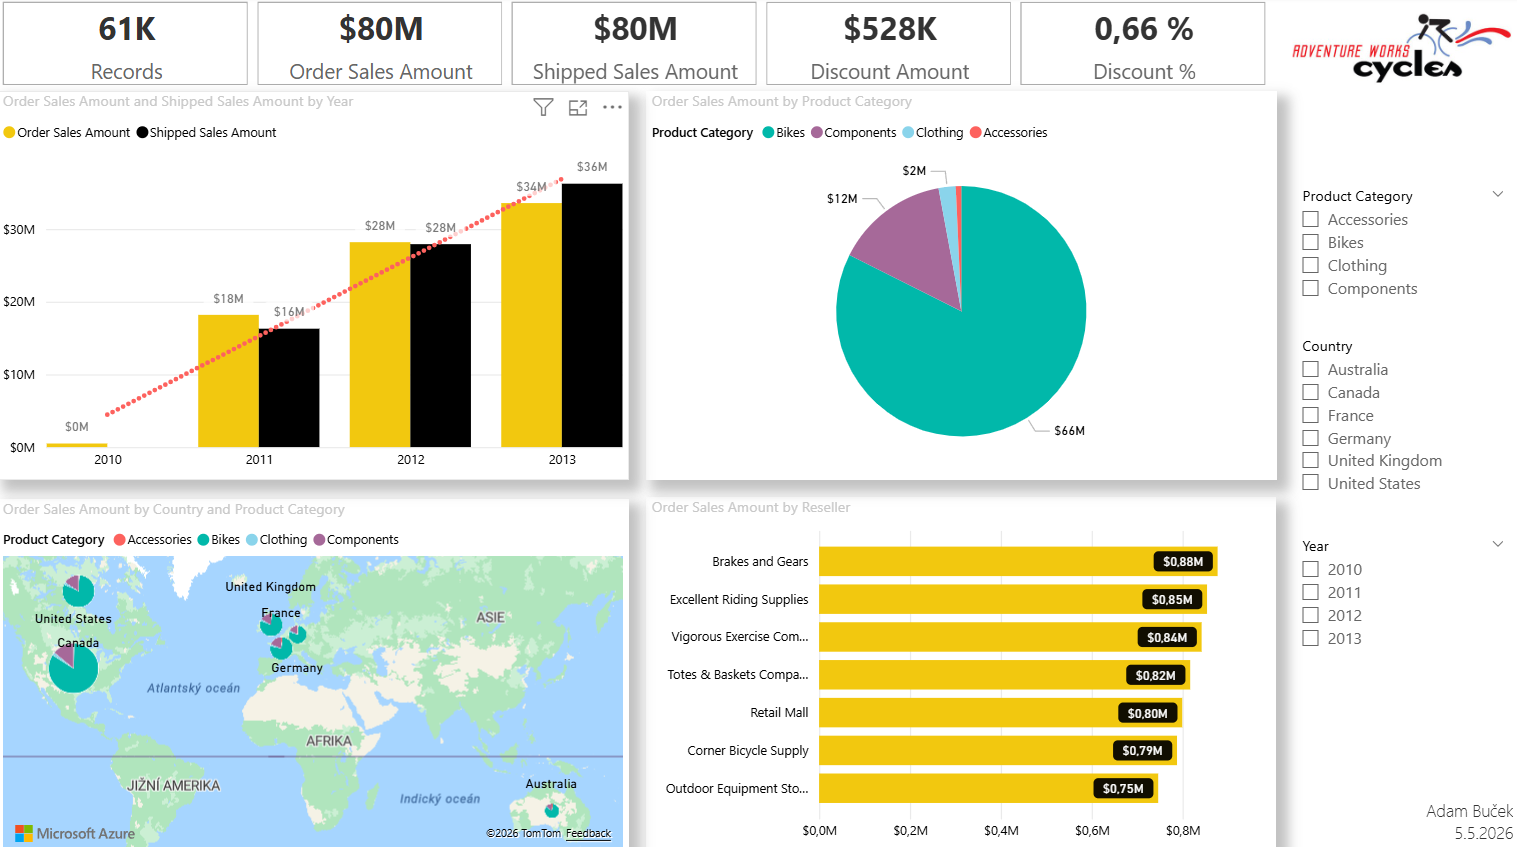

What the dashboard file says about the page in this screenshot:
{"tool":"powerbi","page":{"name":"SALES OVERVIEW CHARTS","canvas":[1280,720],"ordinal":0},"visuals":[{"type":"lineClusteredColumnComboChart","fields":{"Category":["Calendar.Date Hierarchy.Year"],"Y":["Sales.Order Sales Amount","Sales.Shipped Sales Amount"]},"box":[0,79.6,531.3,327.2],"z":0},{"type":"pieChart","fields":{"Category":["Products.Product Hierarchy.Product Category","Products.Product Hierarchy.Product Subcategory","Products.Product Hierarchy.Product Name"],"Y":["Sales.Order Sales Amount"]},"box":[545.8,79.6,531.3,327.2],"z":1000},{"type":"azureMap","fields":{"Category":["Locations.Country"],"Series":["Products.Product Category"],"Size":["Sales.Order Sales Amount"]},"box":[0,422.5,531.2,297.5],"z":2000},{"type":"barChart","fields":{"Y":["Sales.Order Sales Amount"],"Category":["Resellers.Reseller"]},"box":[545.5,422.1,530.6,297.7],"z":3000},{"type":"slicer","fields":{"Values":["Products.Product Category"]},"box":[1085.4,154.9,194.8,125.8],"z":4000},{"type":"slicer","fields":{"Values":["Locations.Country"]},"box":[1085.4,280.7,194.8,159.7],"z":5000},{"type":"slicer","fields":{"Values":["Calendar.Year"]},"box":[1085.4,448.9,194.8,122.2],"z":6000},{"type":"image","box":[1085,0,195,88.8],"z":7000},{"type":"textbox","box":[1137.5,670.4,142.8,49.6],"z":8000},{"type":"cardVisual","fields":{"Data":["Sales.Records","Sales.Order Sales Amount","Sales.Shipped Sales Amount","Sum(Discounts.Discount Amount)","Discounts.Discount %"]},"box":[0,0,1075,80],"z":9000}]}

Visuals, with their boxes in screenshot pixels (x1, y1, x2, y2), scaled from the page's 1280x720 canvas onto the 1517x847 screenshot:
lineClusteredColumnComboChart - Calendar.Date Hierarchy.Year x Sales.Order Sales Amount: (left=0, top=94, right=630, bottom=479)
pieChart - Products.Product Hierarchy.Product Category x Products.Product Hierarchy.Product Subcategory: (left=647, top=94, right=1277, bottom=479)
azureMap - Locations.Country x Products.Product Category: (left=0, top=497, right=630, bottom=846)
barChart - Sales.Order Sales Amount x Resellers.Reseller: (left=647, top=497, right=1275, bottom=846)
slicer - Products.Product Category: (left=1286, top=182, right=1516, bottom=330)
slicer - Locations.Country: (left=1286, top=330, right=1516, bottom=518)
slicer - Calendar.Year: (left=1286, top=528, right=1516, bottom=672)
image: (left=1286, top=0, right=1516, bottom=104)
textbox: (left=1348, top=789, right=1516, bottom=846)
cardVisual - Sales.Records x Sales.Order Sales Amount: (left=0, top=0, right=1274, bottom=94)
